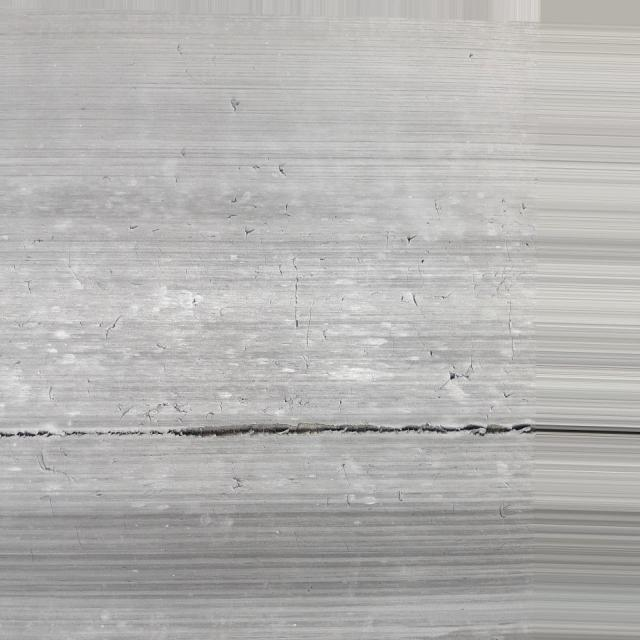Puncture: (448, 370, 454, 380), (404, 238, 410, 244)
Tear: (0, 418, 532, 441)
